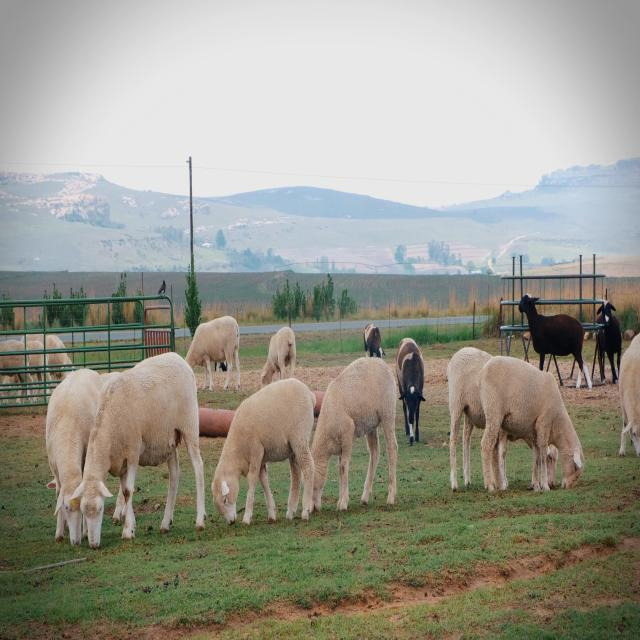sheep: (80, 345, 208, 549), (478, 330, 591, 501), (212, 366, 323, 538), (37, 362, 82, 554)
